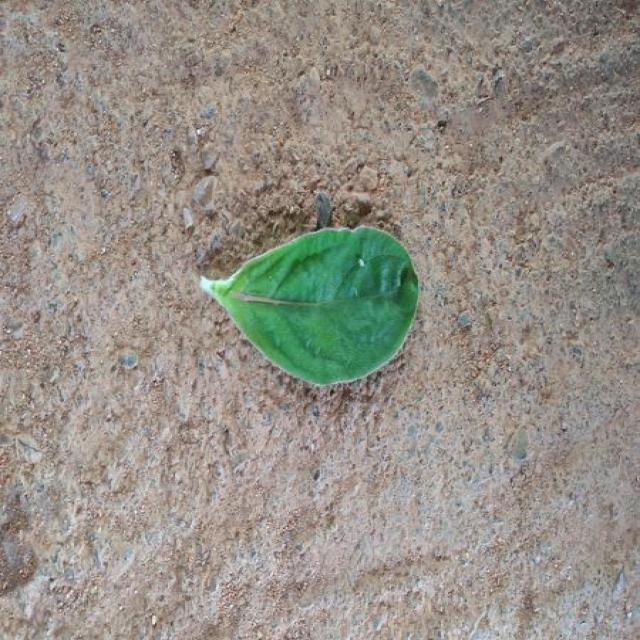globe amarnath: (202, 226, 418, 384)
